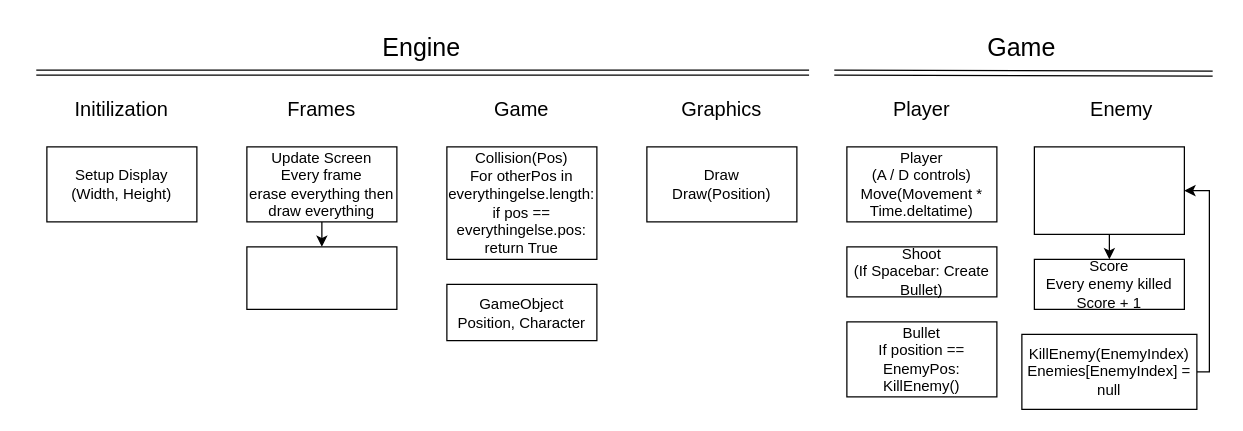
Some shapes in this 1243 by 431 pixel diagram are drawn without their labels. Each missing label, with the box of its shape:
Clock (Time.deltatime but for me): (246, 246, 397, 309)
Enemy (Left - Right / Right - Left) Move(MoveSpeed * Time.deltatime): (1033, 146, 1184, 234)
